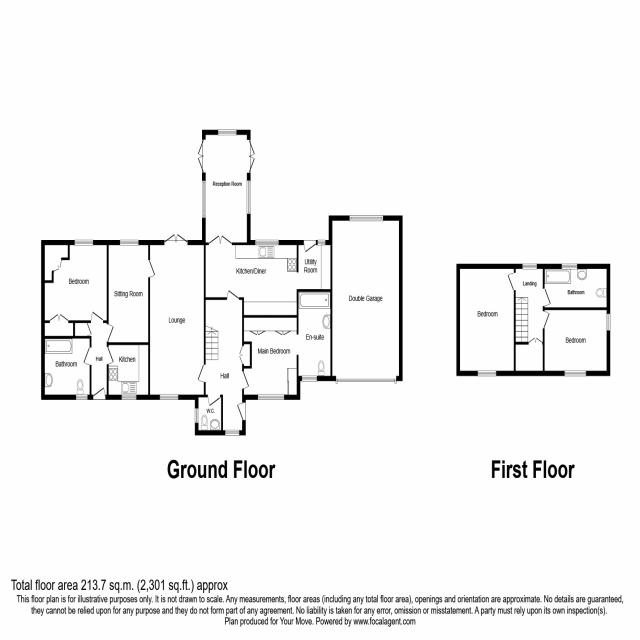DOOR: (196, 360, 206, 385), (89, 309, 106, 323), (505, 271, 516, 292), (225, 286, 241, 300), (236, 400, 246, 421), (148, 257, 157, 280), (543, 285, 552, 308), (82, 344, 91, 366), (92, 387, 106, 400), (207, 394, 221, 407), (542, 309, 551, 329), (242, 369, 250, 391), (107, 345, 115, 366), (107, 323, 115, 344)
DOUBLE DOOR: (163, 231, 189, 246), (206, 233, 233, 245)
ROOM: (147, 229, 206, 400), (456, 263, 516, 376), (41, 240, 109, 339), (106, 239, 156, 346), (543, 307, 610, 375)
WINDOW: (348, 212, 385, 223), (200, 177, 208, 220), (245, 178, 252, 216), (254, 238, 280, 247), (256, 393, 285, 401), (563, 368, 588, 377), (73, 237, 95, 247), (159, 392, 180, 402), (476, 368, 498, 377), (217, 128, 238, 137), (521, 261, 539, 271), (301, 373, 318, 383), (119, 238, 140, 246), (561, 262, 579, 271), (224, 429, 241, 437), (121, 393, 137, 401), (193, 407, 200, 424), (606, 312, 611, 332), (76, 393, 88, 400), (317, 239, 326, 246)
